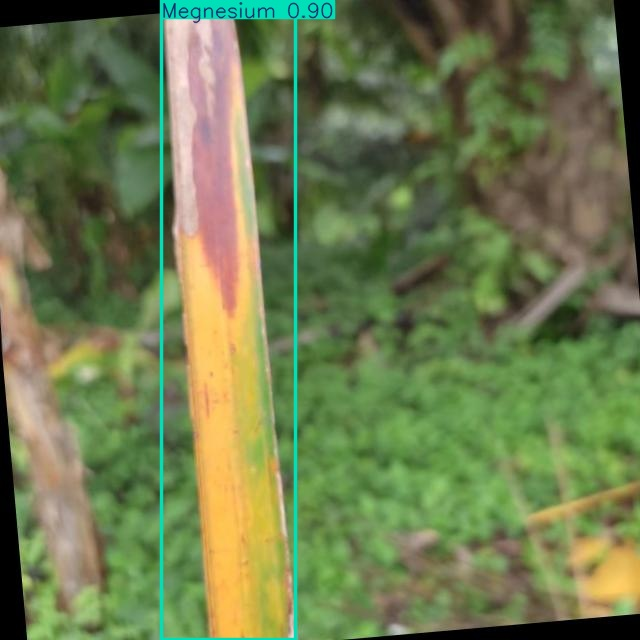Megnesium: (162, 1, 295, 640)
